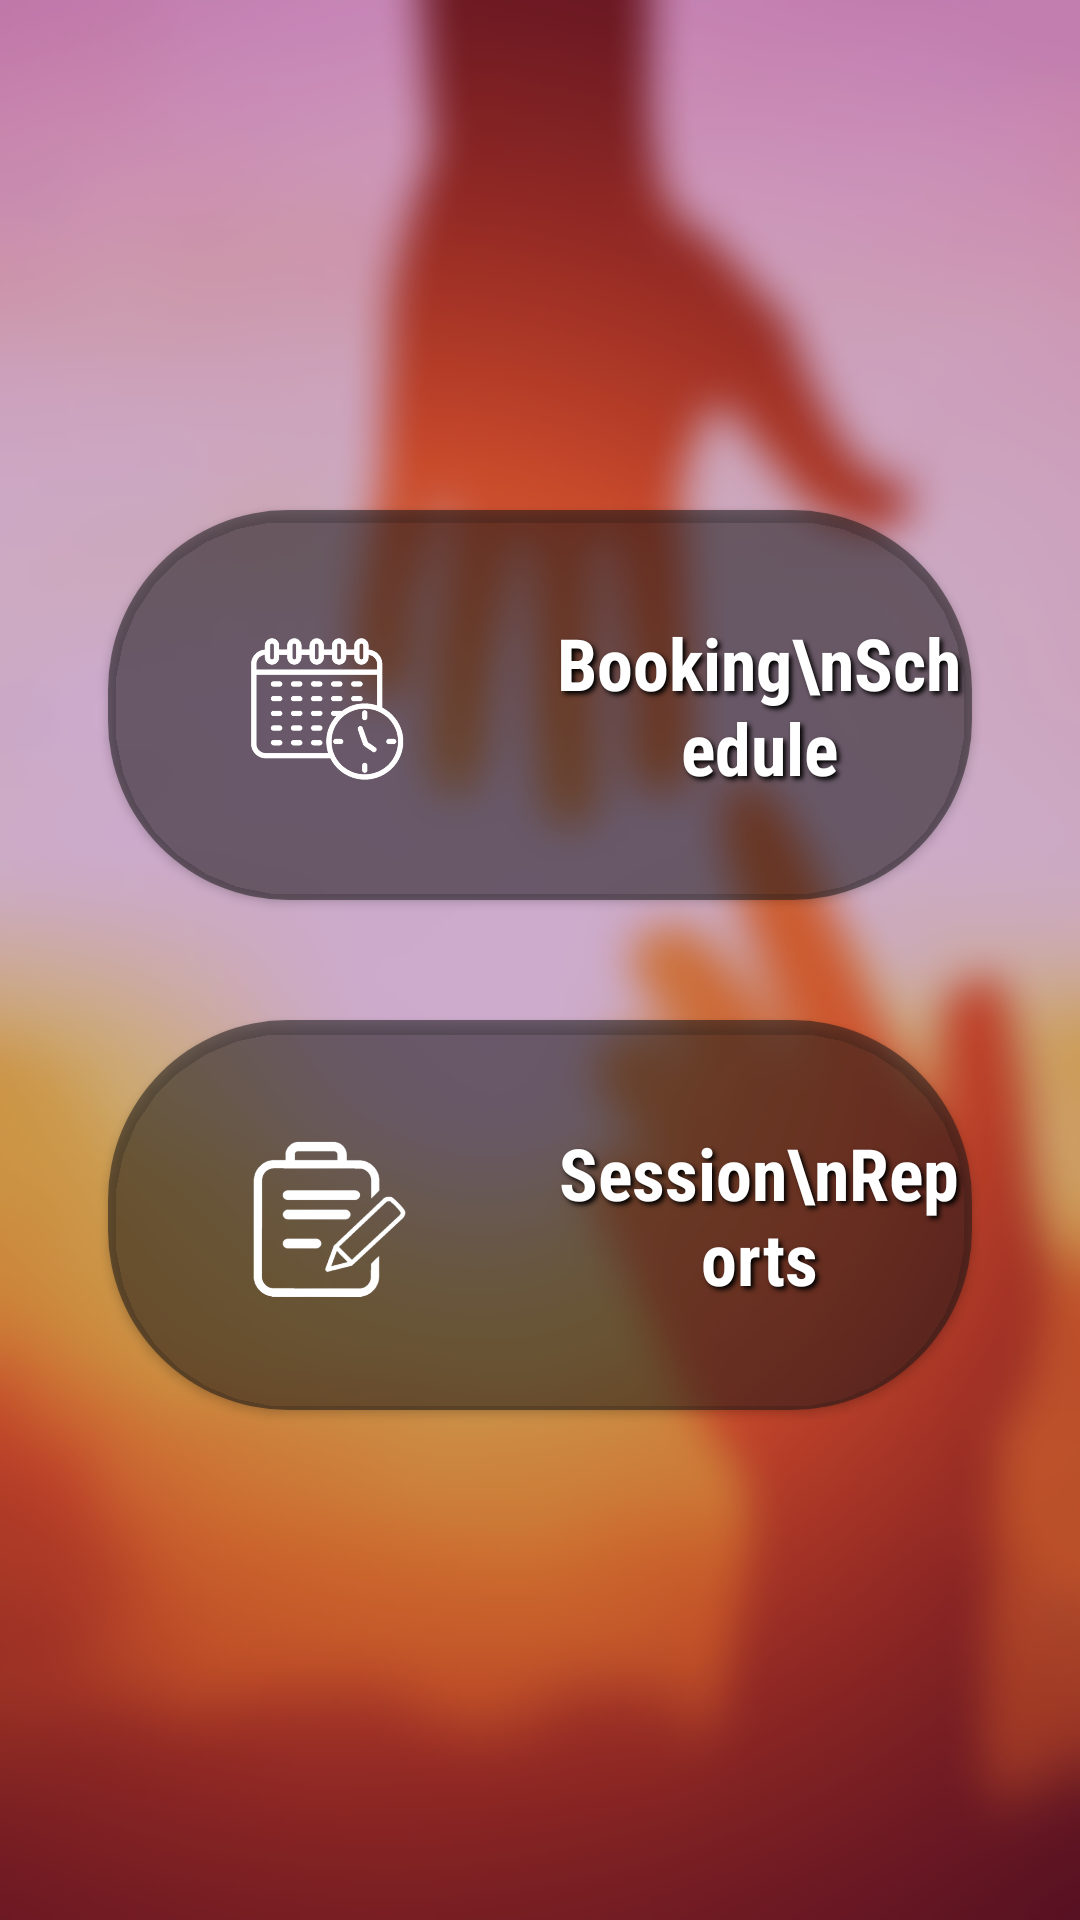

Where icons sit on this 1080 × 1920 app screen, as [x1, y1, x2, y2]:
session report: [245, 1119, 423, 1297]
